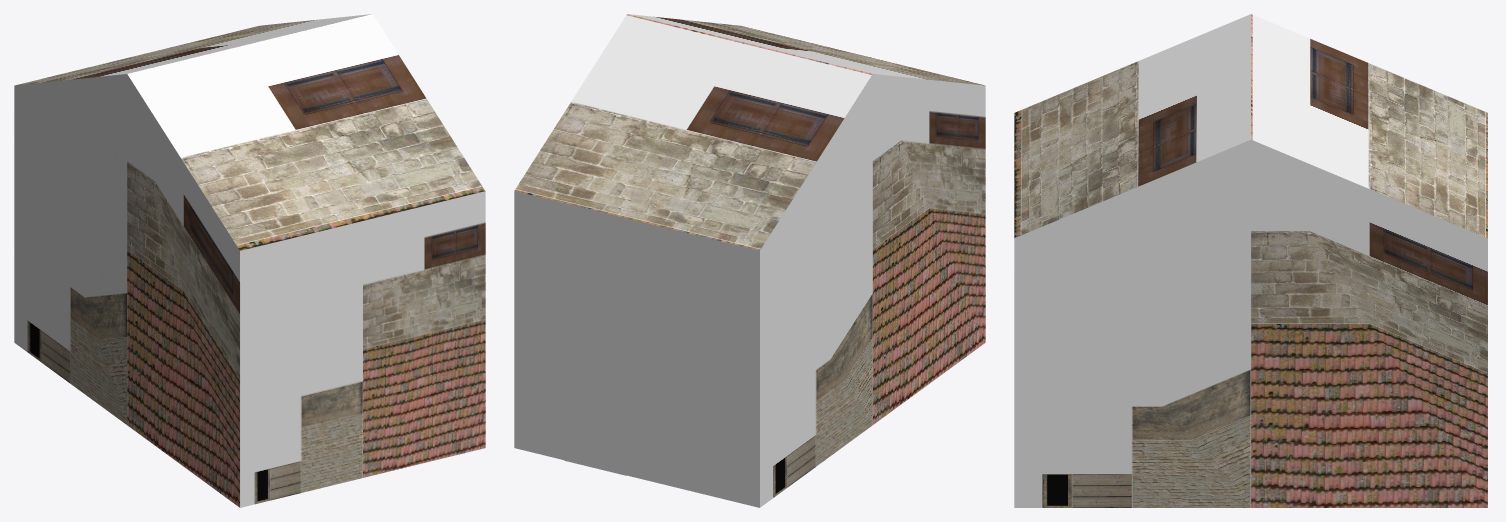
File: Ebene.obj
3 views of the same model, side by side, from view 1: azimuth 30°, elevation 25°; view 2: azimuth 150°, elevation 25°; view 3: azimuth 270°, elevation 25° (orthographic). The views are drawn at different scales.
Bounding box in the file's own units: 200 × 273 × 321.
